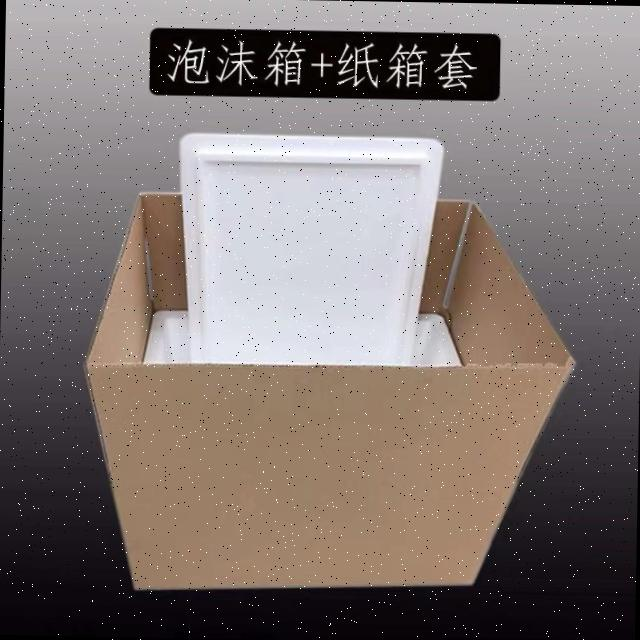styrofoam: (78, 130, 580, 596)
